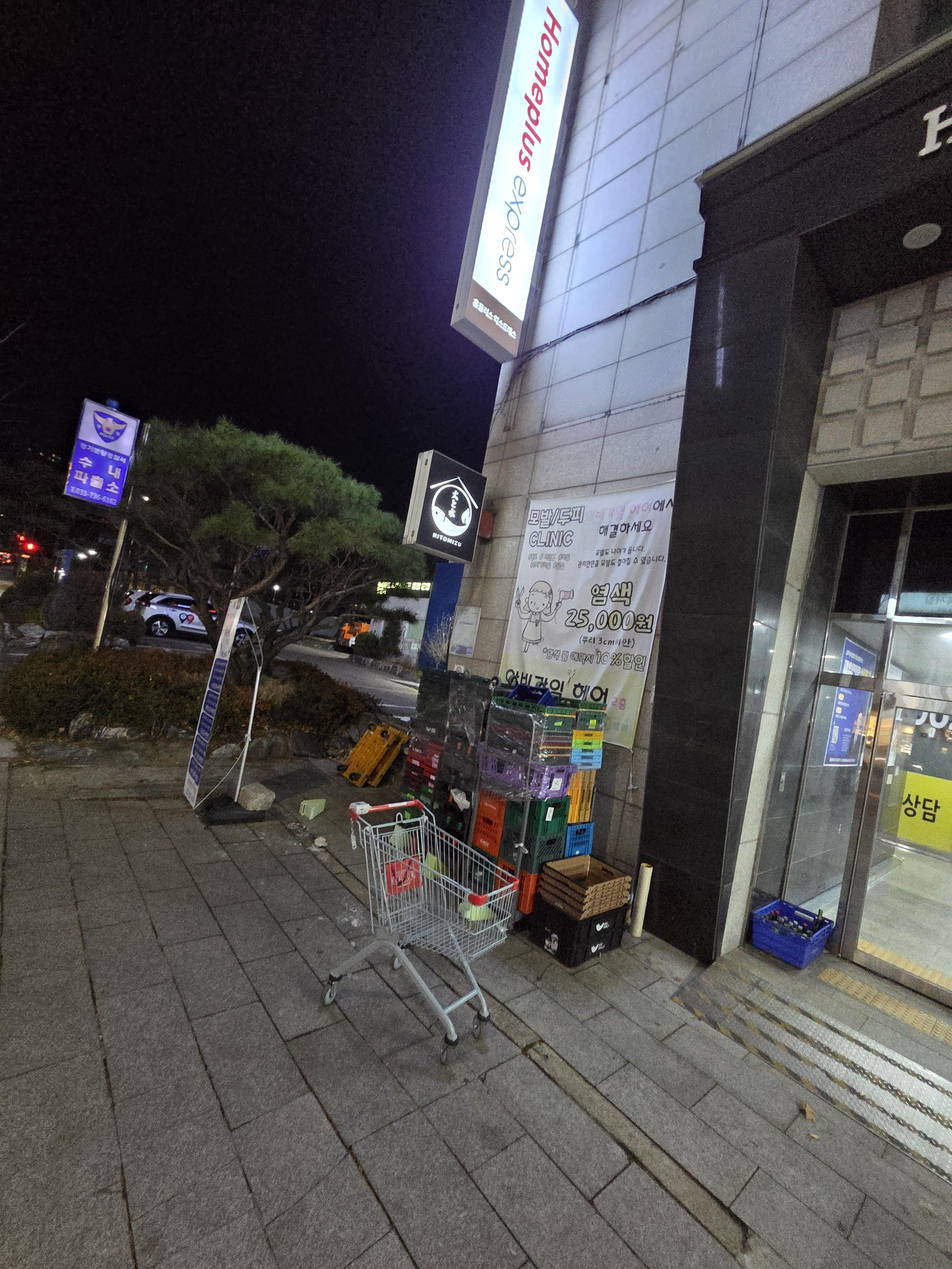empty_cart: (289, 771, 552, 1096)
